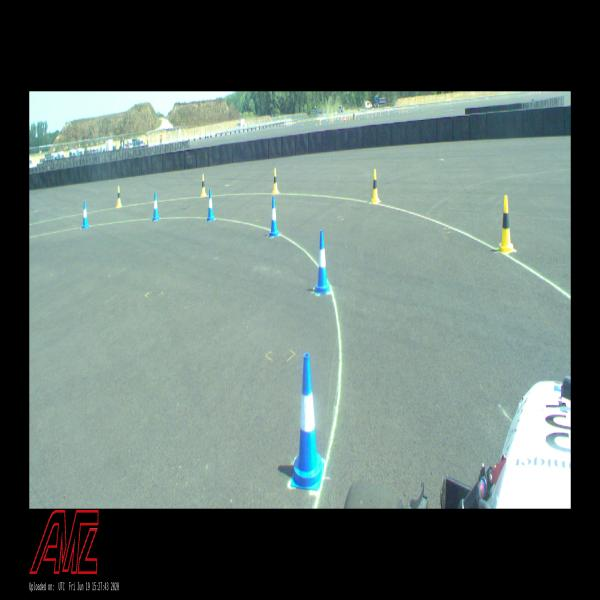blue_cone: (291, 353, 324, 490), (315, 229, 329, 293), (269, 196, 279, 236), (207, 189, 214, 221), (153, 192, 160, 220), (82, 201, 89, 228)
yellow_cone: (499, 196, 513, 252), (371, 169, 379, 202), (272, 168, 278, 193), (116, 186, 122, 207), (201, 174, 206, 196)
